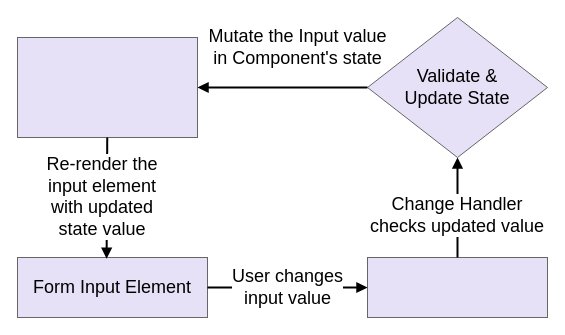
Some shapes in this 565 by 335 pixel diagram are drawn without their labels. Each missing label, with the box of its shape:
Change Handler: (366, 256, 548, 318)
Component State ─────────── Input Value: (16, 36, 198, 138)
